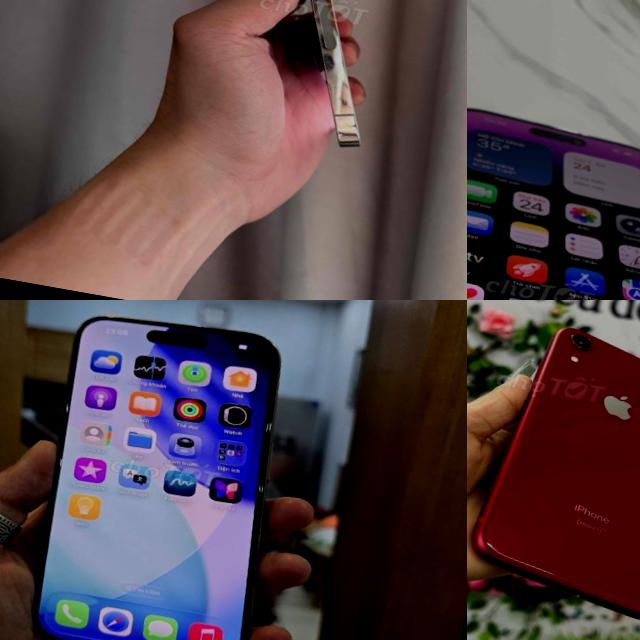gen_14: (467, 90, 640, 300), (221, 0, 429, 165)
gen_15: (13, 300, 328, 640)
gen_x_xs: (467, 311, 640, 628)
